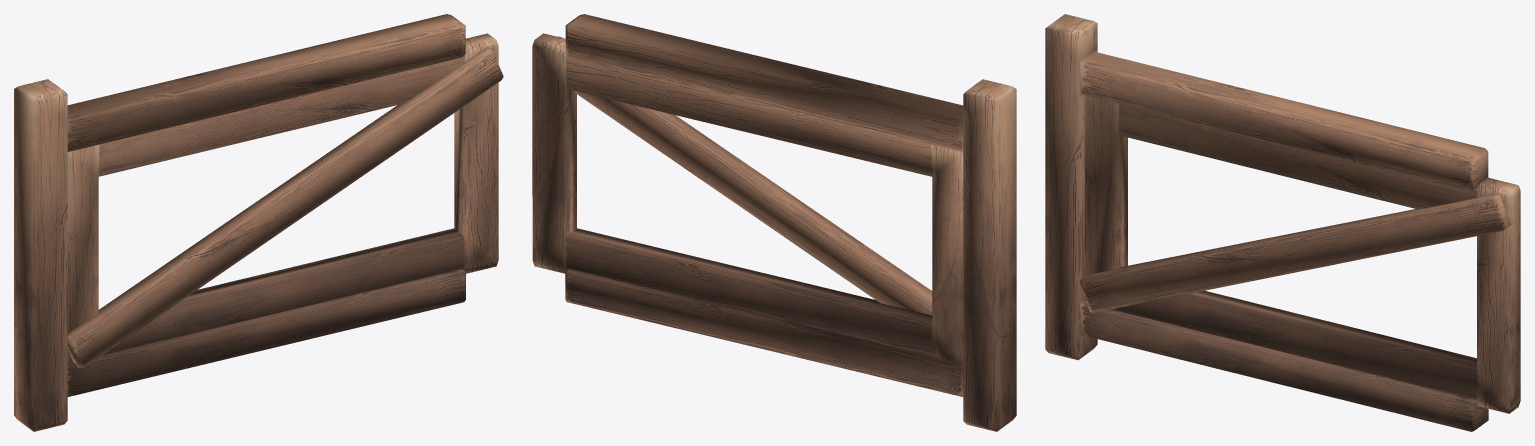
Rendered from millgate.fbx.
3 renders of one model, left to right at view 1: azimuth 30°, elevation 25°; view 2: azimuth 150°, elevation 25°; view 3: azimuth 330°, elevation 25°, orthographic.
Visible parts, largest first — view 1: moving, static; view 2: moving, static; view 3: moving, static.
Part boxes in pixels (<box>): moving: <box>67,33,503,368</box>; static: <box>14,14,465,431</box>; moving: <box>532,33,963,363</box>; static: <box>565,14,1016,431</box>; moving: <box>1079,95,1520,413</box>; static: <box>1045,14,1488,431</box>.
Size of the model in its own units: 7.1 by 4.82 by 0.5188.
